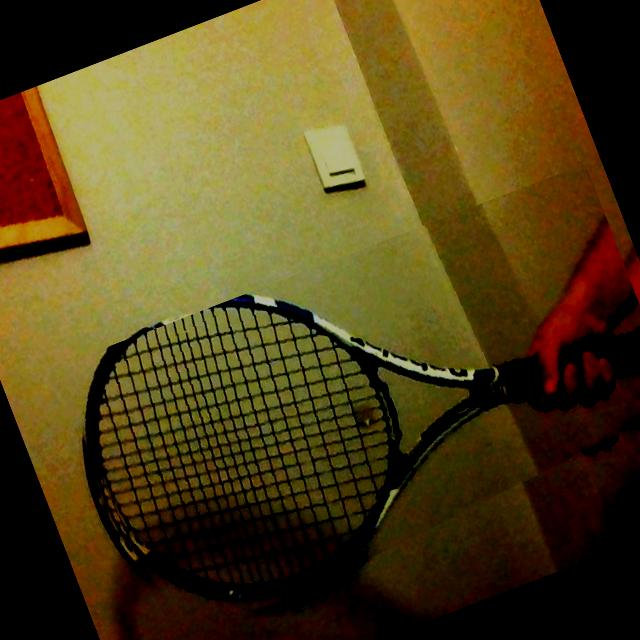TennisRacket: (51, 164, 640, 640)
